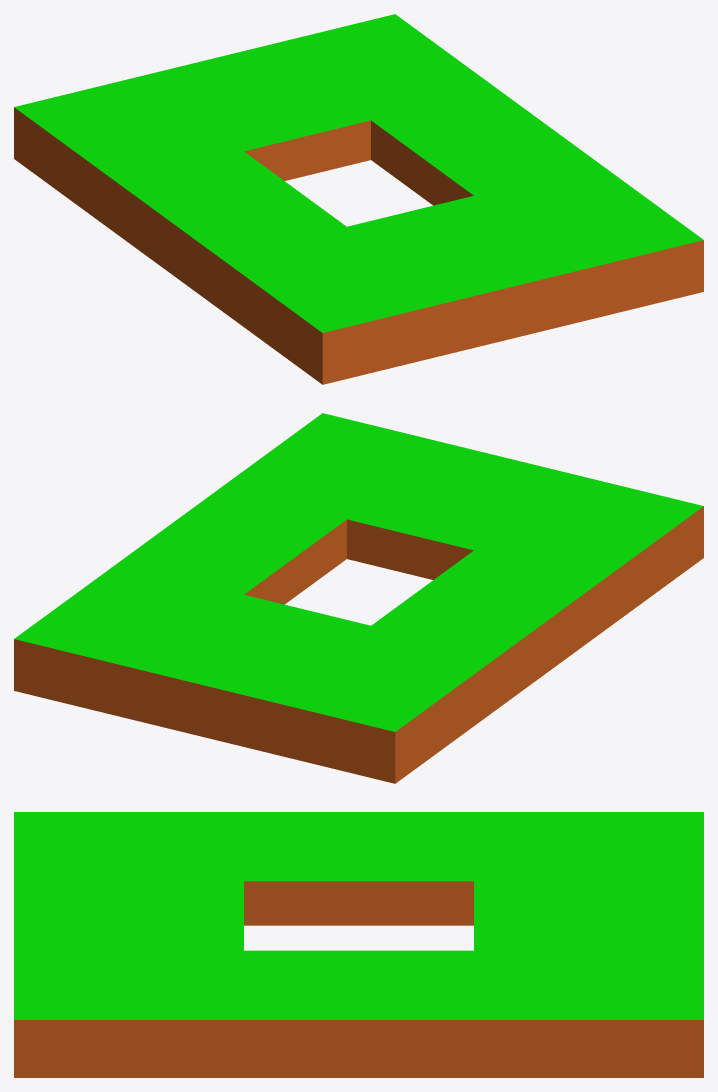
File: Ground_7.fbx
3 renders of one model, top to bottom at view 1: azimuth 30°, elevation 25°; view 2: azimuth 150°, elevation 25°; view 3: azimuth 270°, elevation 25°, orthographic. The views are drawn at different scales.
Visible parts, largest first — view 1: Ground_7; view 2: Ground_7; view 3: Ground_7.
Part boxes in pixels (box(x1,y1,x2,y2)): Ground_7: box(14, 14, 703, 384); Ground_7: box(14, 413, 703, 783); Ground_7: box(14, 812, 703, 1077).
Size of the model in its own units: 13.84 by 1.8 by 19.4.
